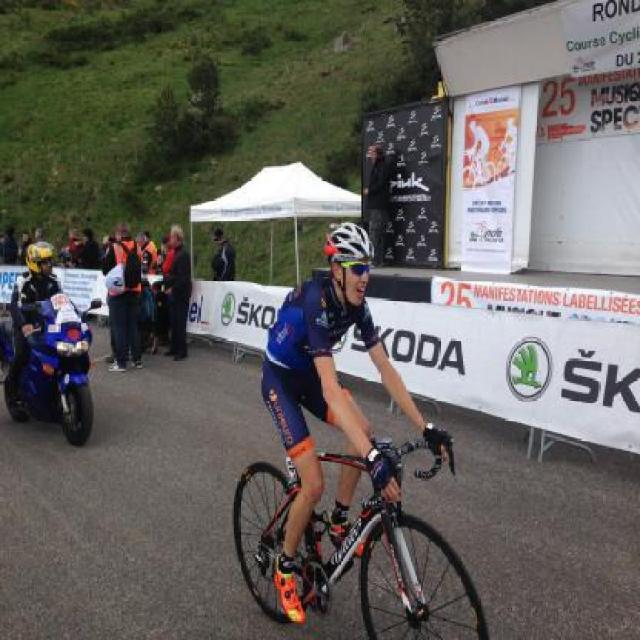Person: (255, 217, 454, 626), (1, 237, 62, 386), (99, 219, 144, 370), (155, 221, 196, 367), (357, 140, 391, 265), (137, 224, 161, 359), (208, 224, 238, 285), (92, 234, 130, 275), (11, 231, 34, 269), (158, 234, 175, 280), (64, 227, 82, 270), (0, 230, 22, 264), (78, 227, 98, 264), (34, 222, 46, 252)
